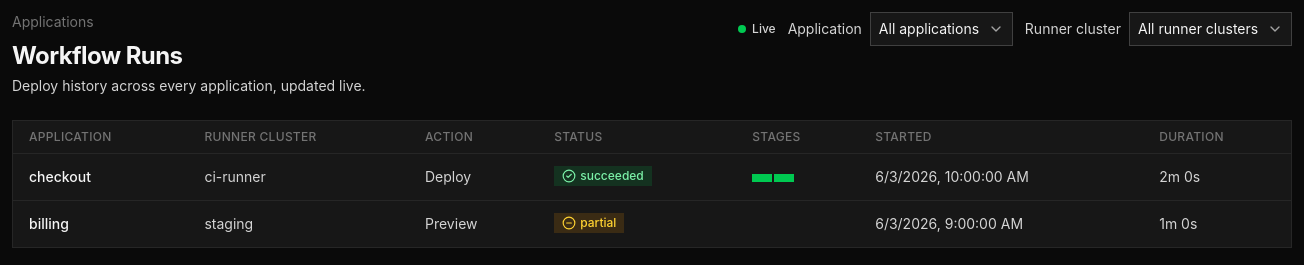
Scenario: RunsIndex › filters by application
Select "billing" in the dropdown labelled "Application" at point(941, 29), box [870,12,1013,46]
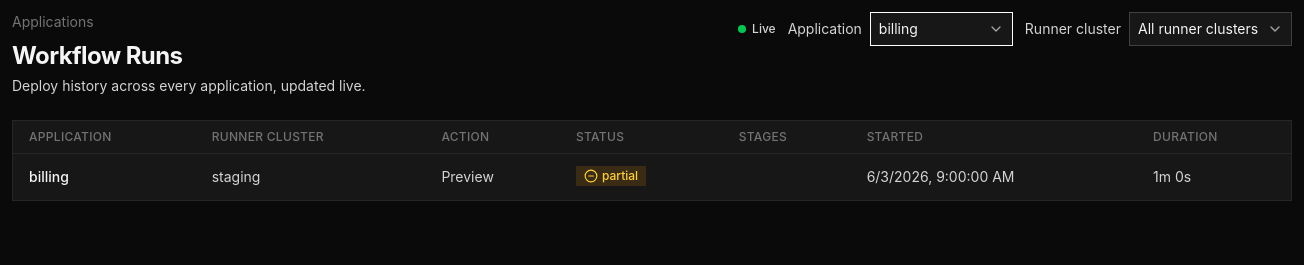
Expected: the text "billing" is shown, [13,154,196,200]
Expected: the text "checkout" is gone
